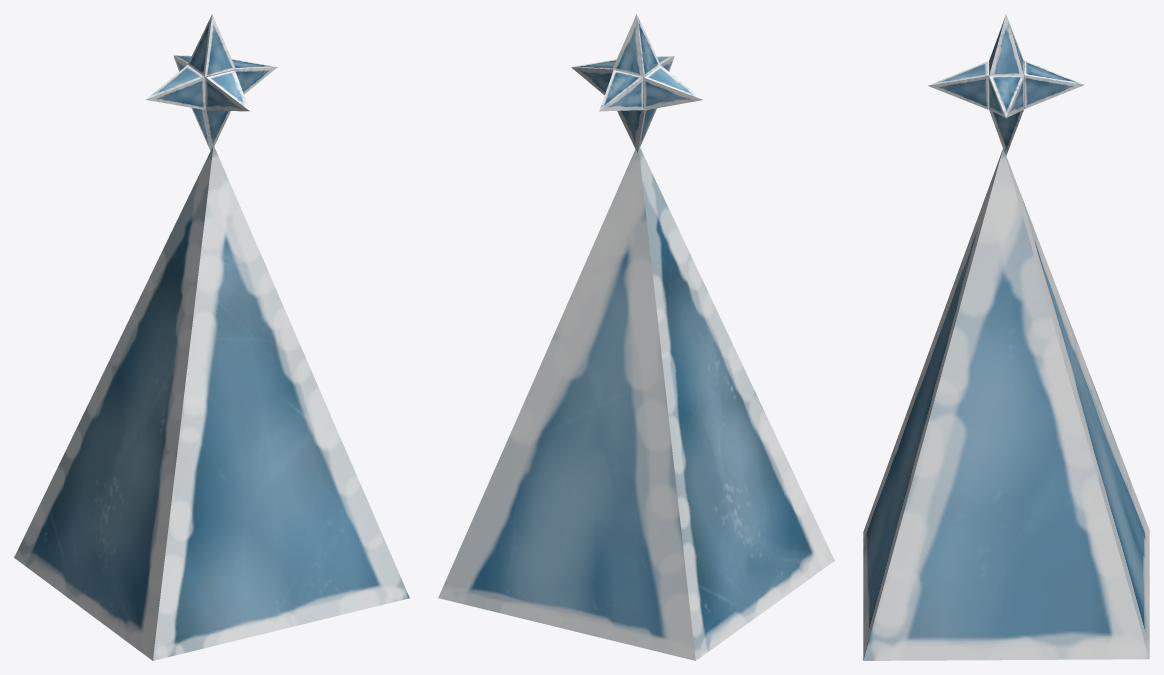
Rendered from IceStatue.glb.
3 renders of one model, left to right at view 1: azimuth 30°, elevation 25°; view 2: azimuth 150°, elevation 25°; view 3: azimuth 270°, elevation 25°, orthographic. The views are drawn at different scales.
Visible parts, largest first — view 1: Ice Statue; view 2: Ice Statue; view 3: Ice Statue.
Part boxes in pixels (x1,y1,x2,y2): Ice Statue: [14, 14, 409, 660]; Ice Statue: [438, 14, 834, 660]; Ice Statue: [863, 14, 1149, 660].
Bounding box in the file's own units: 12.29 × 25.89 × 11.49.
Materials: 1 (1 with a texture image).
